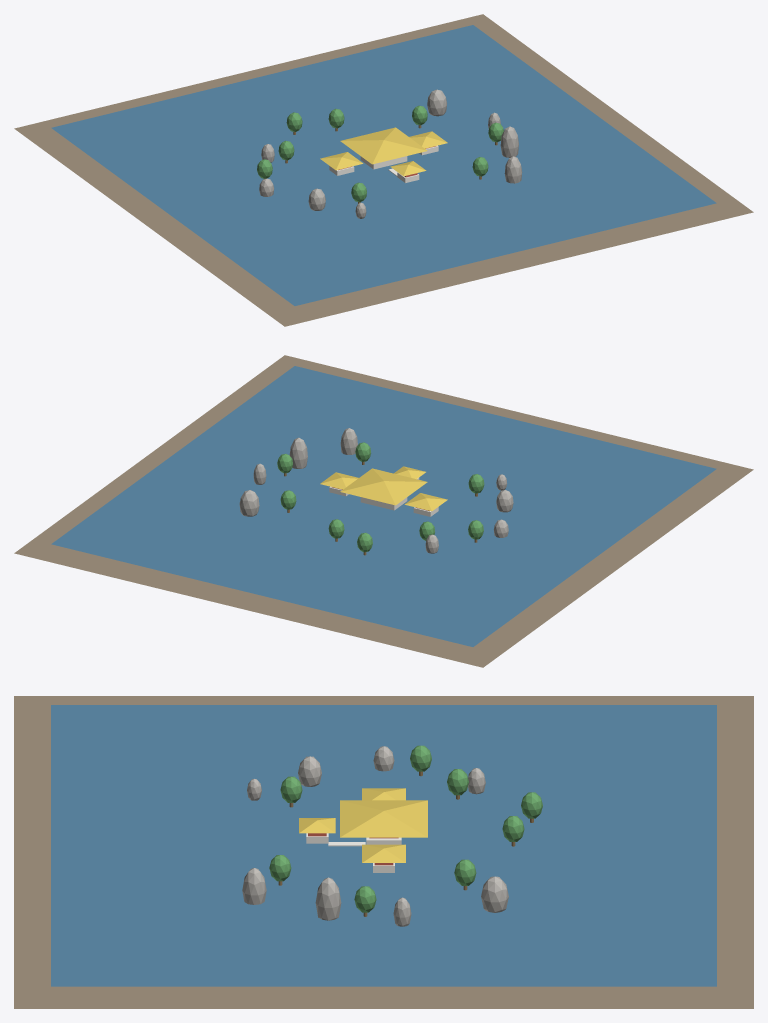
File: yuanmingyuan.glb
3 renders of one model, top to bottom at view 1: azimuth 30°, elevation 25°; view 2: azimuth 150°, elevation 25°; view 3: azimuth 270°, elevation 25°, orthographic. The views are drawn at different scales.
Parts seen in each view (by area): view 1: Water_Surface, Lake_Bed, Main_Hall_Roof; view 2: Water_Surface, Lake_Bed, Main_Hall_Roof; view 3: Water_Surface, Lake_Bed, Main_Hall_Roof, Rock_2, Right_Wing_Roof, Rock_3, Rock_7, Rock_0, Pavilion_Roof, Left_Wing_Roof.
Boxes of the visible parts, x1,y1,x2,y2 form: Water_Surface: (51, 25, 716, 305); Lake_Bed: (14, 14, 753, 326); Main_Hall_Roof: (340, 127, 427, 164); Water_Surface: (51, 366, 716, 646); Lake_Bed: (14, 355, 753, 667); Main_Hall_Roof: (340, 468, 427, 505); Water_Surface: (51, 705, 716, 986); Lake_Bed: (14, 696, 753, 1008); Main_Hall_Roof: (340, 800, 427, 837); Rock_2: (315, 877, 341, 920); Right_Wing_Roof: (362, 844, 405, 862); Rock_3: (481, 876, 508, 912); Rock_7: (242, 868, 266, 904); Rock_0: (298, 756, 321, 786); Pavilion_Roof: (299, 818, 335, 833); Left_Wing_Roof: (362, 788, 405, 800).
Size of the model in its own units: 200 by 15.31 by 200.
